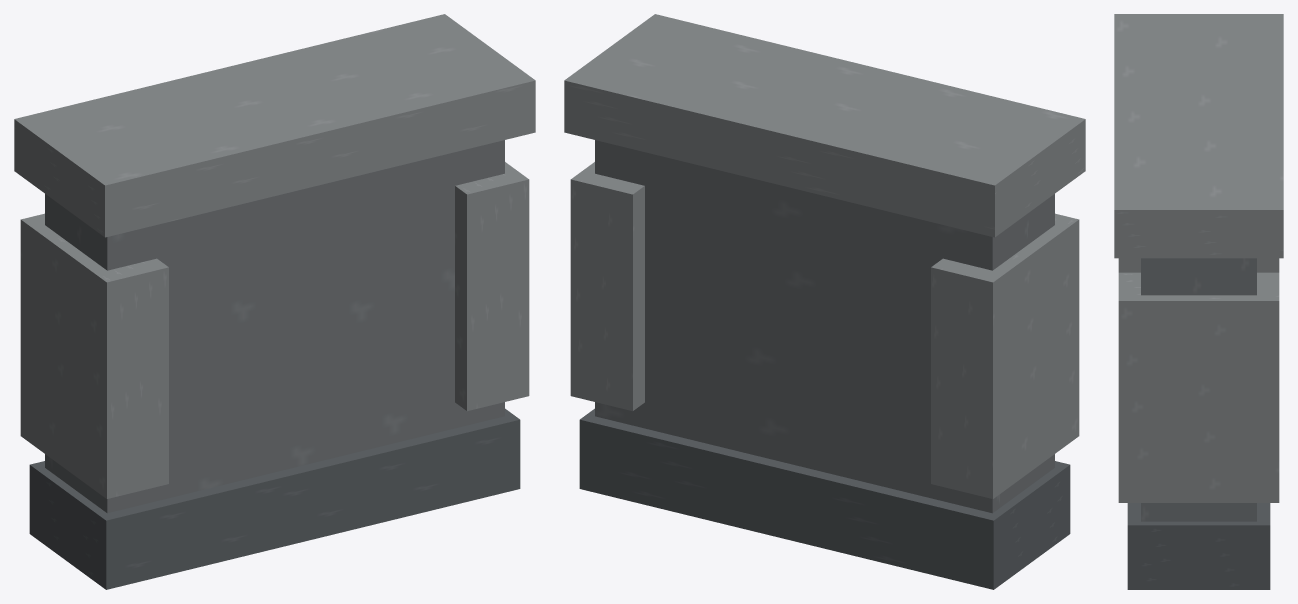
The model's file is Wall_Straight.obj.
3 views of the same model, side by side, from view 1: azimuth 30°, elevation 25°; view 2: azimuth 150°, elevation 25°; view 3: azimuth 270°, elevation 25° (orthographic). The views are drawn at different scales.
Visible parts, largest first — view 1: Wall_Straight; view 2: Wall_Straight; view 3: Wall_Straight.
Boxes of the visible parts, box(x1,y1,x2,y2) form: Wall_Straight: box(14, 14, 535, 589); Wall_Straight: box(564, 14, 1085, 589); Wall_Straight: box(1114, 14, 1283, 589).
Bounding box in the file's own units: 1.04 × 0.95 × 0.38.
